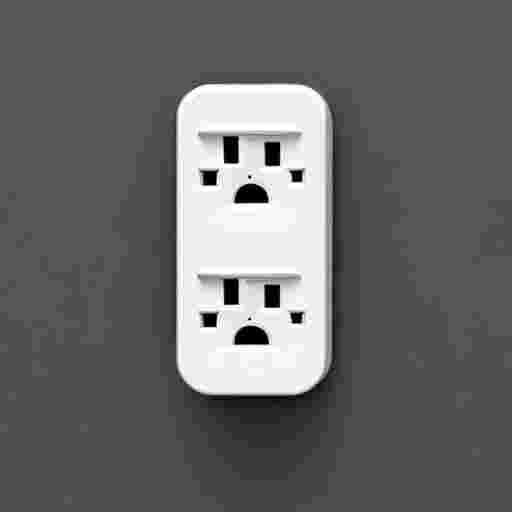power outlet: (177, 83, 332, 395)
